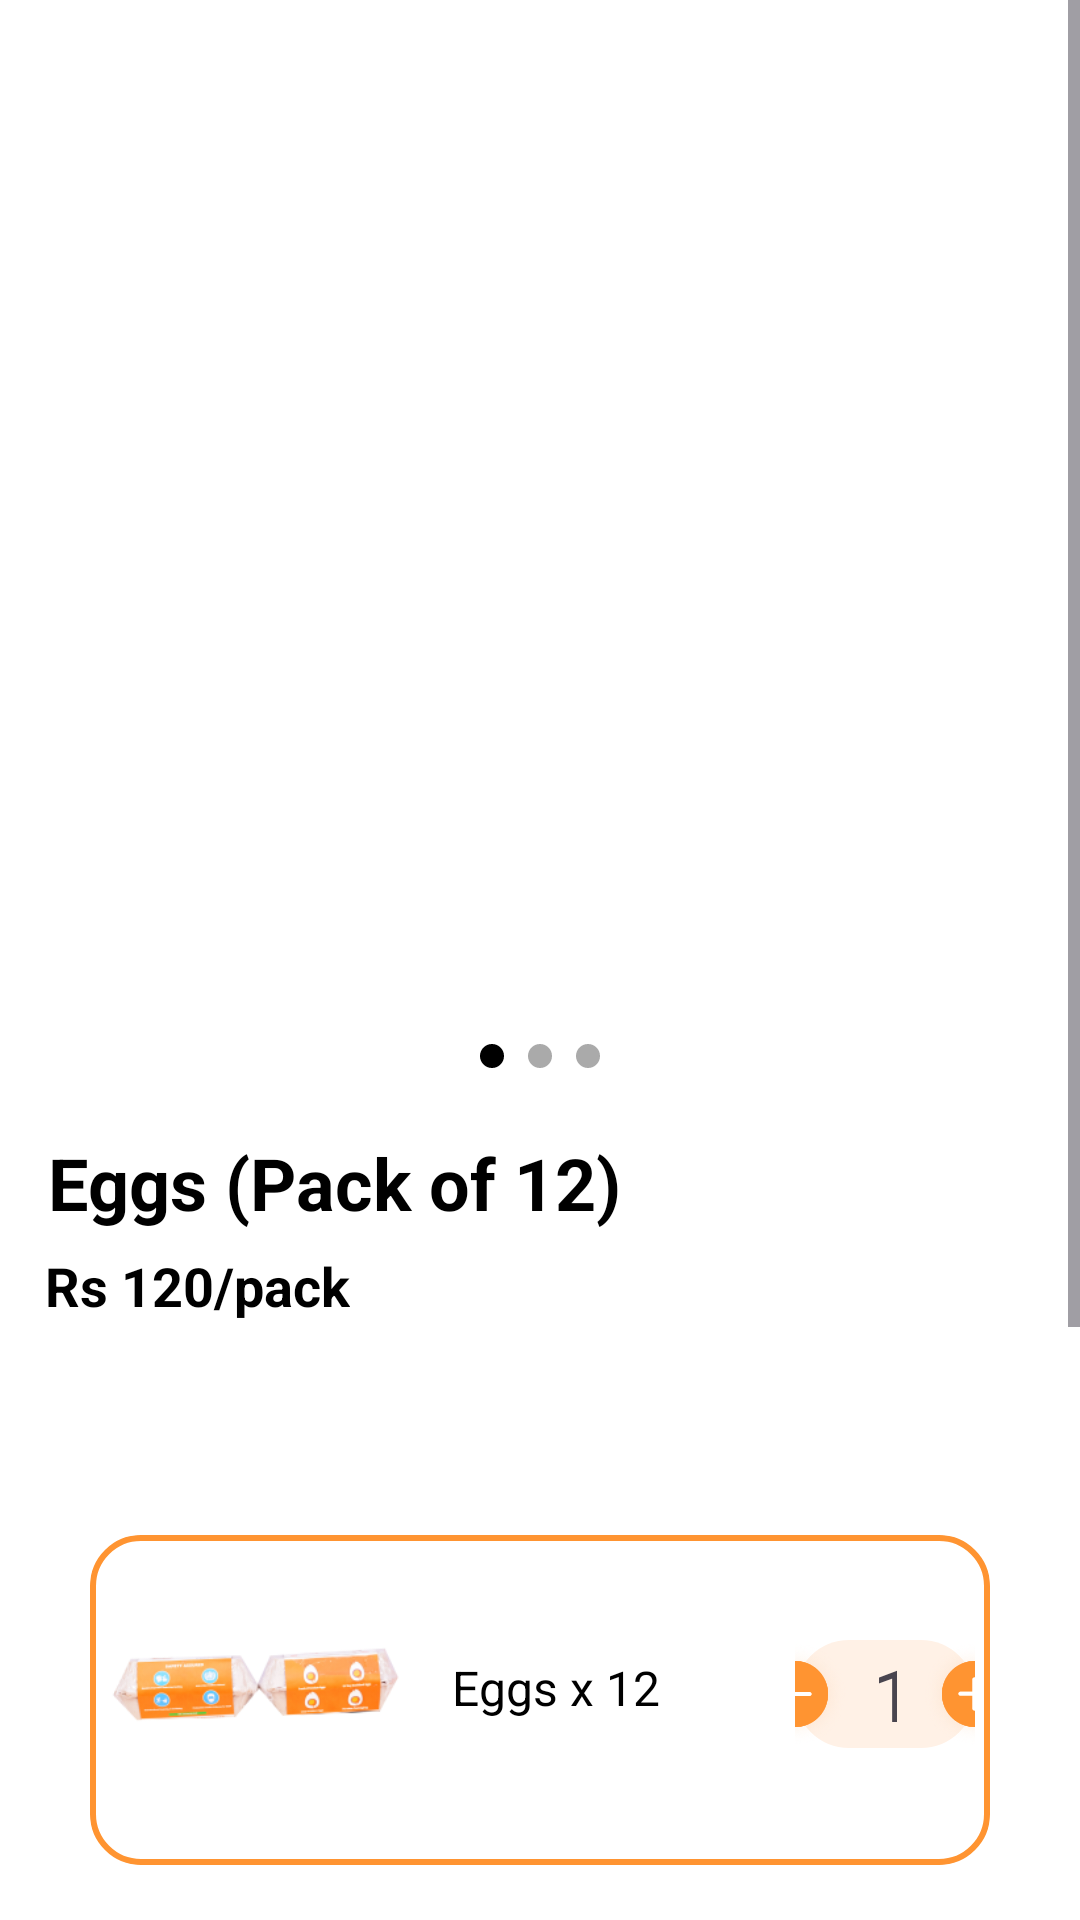

Locate icon controls on the screen. Image size 1080 x 1920, boxes as [x1=x1, y1=y1, x2=x2, y2=y2].
Active indicator: [x1=480, y1=1044, x2=504, y2=1068]
Inactive indicator: [x1=528, y1=1044, x2=552, y2=1068], [x1=576, y1=1044, x2=600, y2=1068]
Product Image: [x1=114, y1=1649, x2=398, y2=1720]
